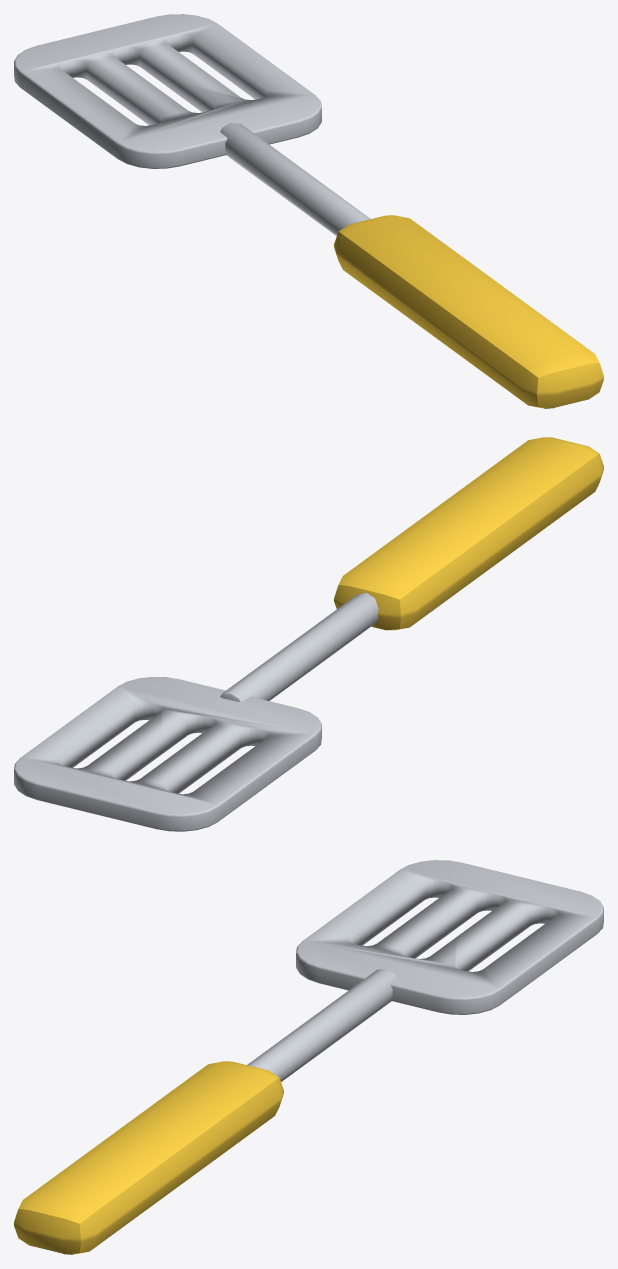
Rendered from espatula_vazada.glb.
3 views of the same model, one above another, from view 1: azimuth 30°, elevation 25°; view 2: azimuth 150°, elevation 25°; view 3: azimuth 330°, elevation 25° (orthographic).
Parts seen in each view (by area): view 1: espatula_vazada; view 2: espatula_vazada; view 3: espatula_vazada.
Part boxes in pixels (x1,y1,x2,y2): espatula_vazada: [14, 14, 603, 408]; espatula_vazada: [14, 437, 603, 831]; espatula_vazada: [14, 860, 603, 1254].
Bounding box in the file's own units: 0.06 × 0.017 × 0.25.
1 material, 1 textured.
